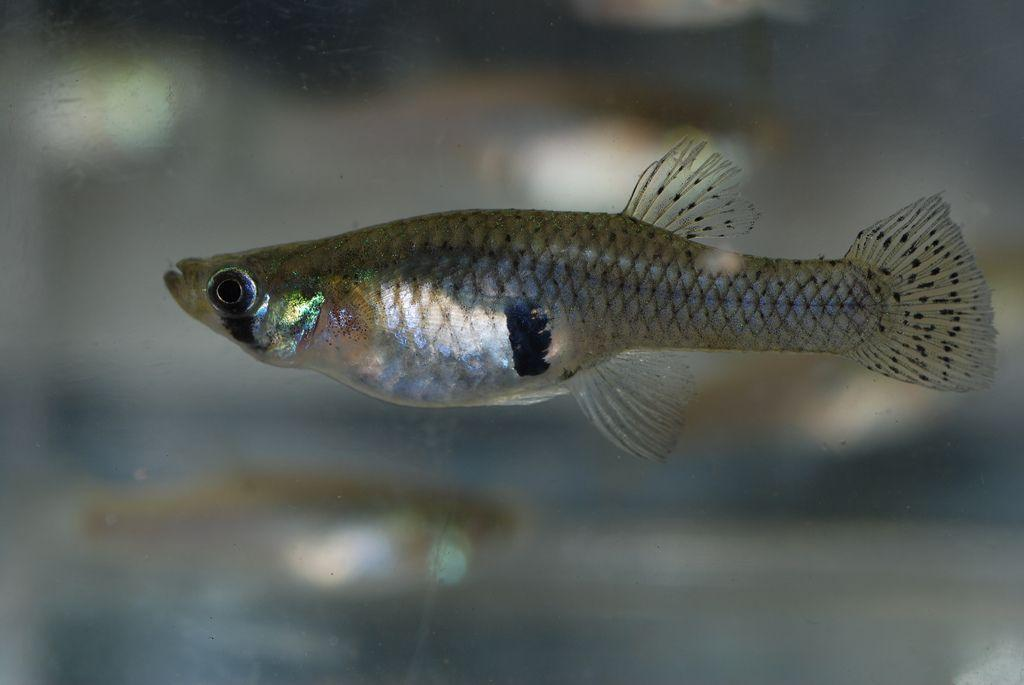Mosquito Fish: (169, 145, 993, 472)
